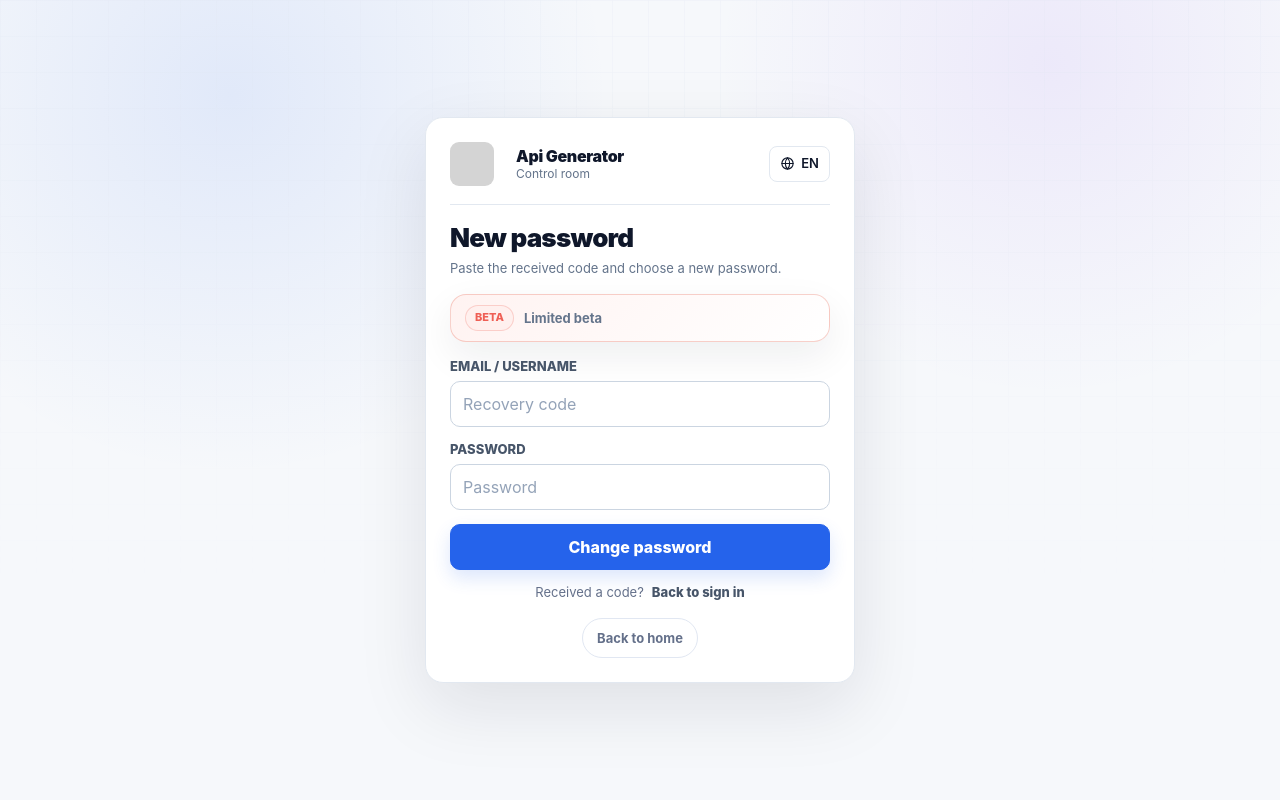
it: Login › shows a clearer message when the reset code is invalid
Step 1. Type "reset-code" into the field labelled "Email / username" → (640, 404), box [450,381,830,427]
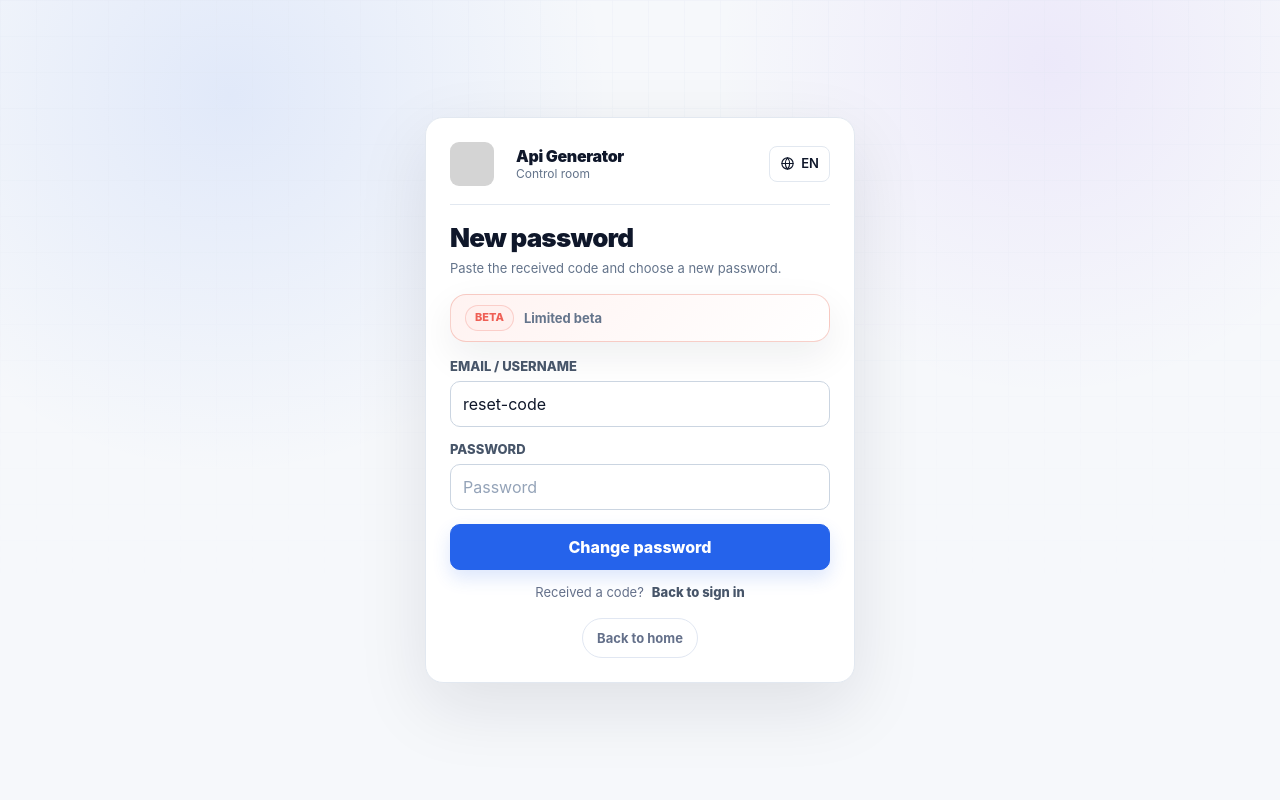
Step 2. Type "strong-password" into the password field labelled "Password" → (640, 487), box [450,464,830,510]
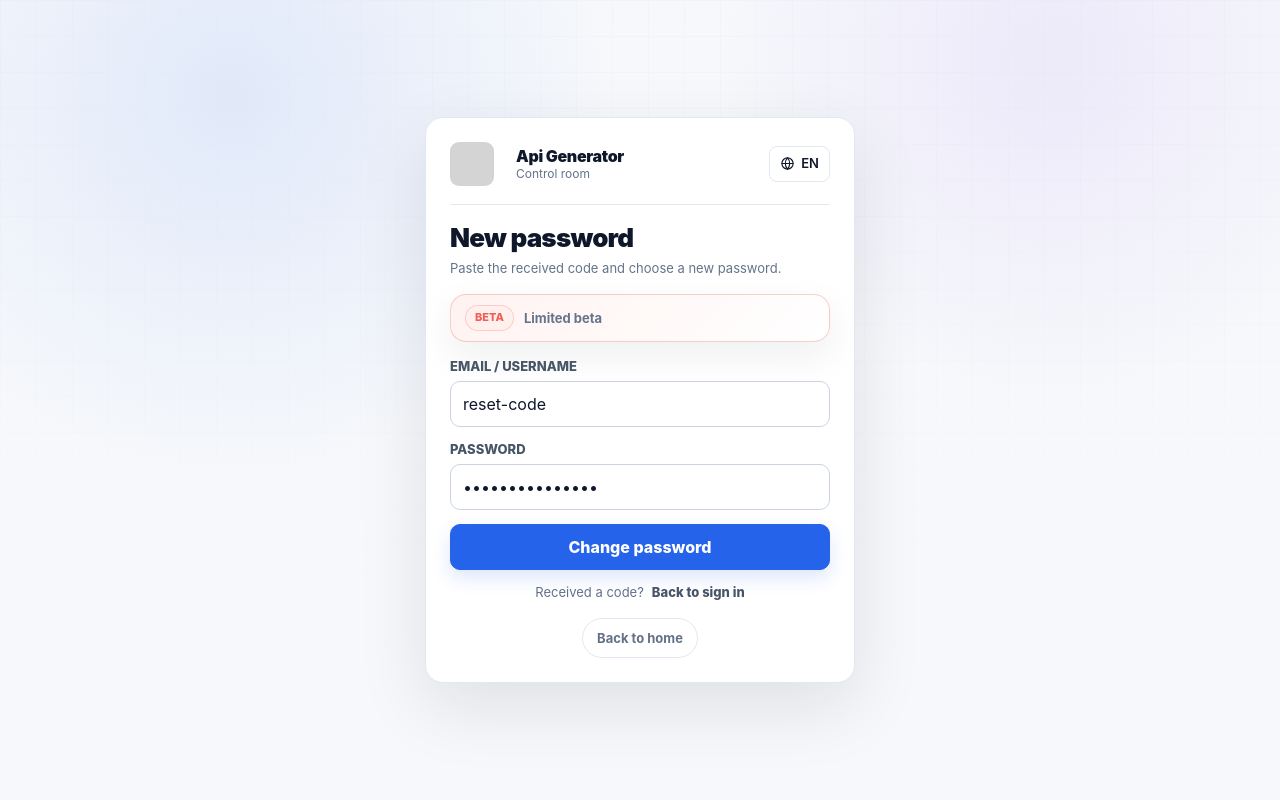
Step 3. Click the button "Change password" → (640, 547), box [450,524,830,570]
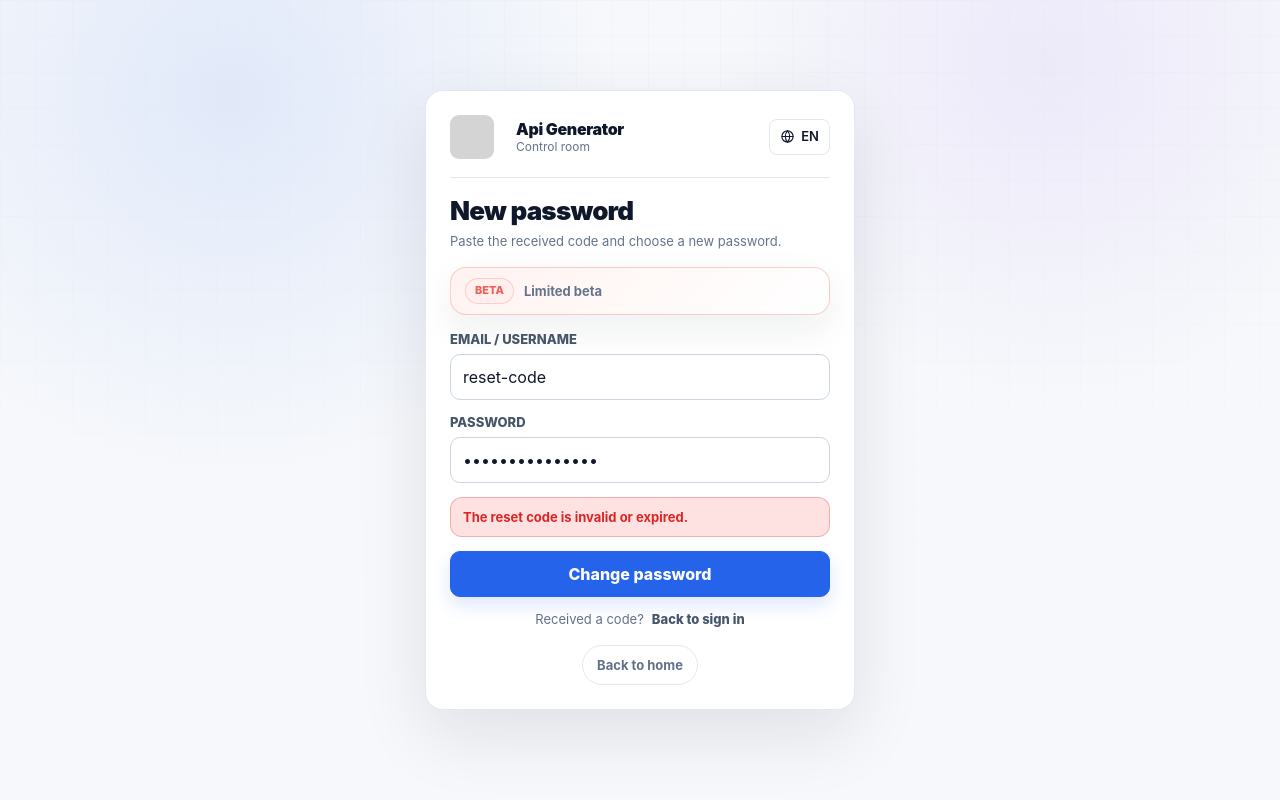
Expected: the text "The reset code is invalid or expired." is shown, [450,497,830,537]
